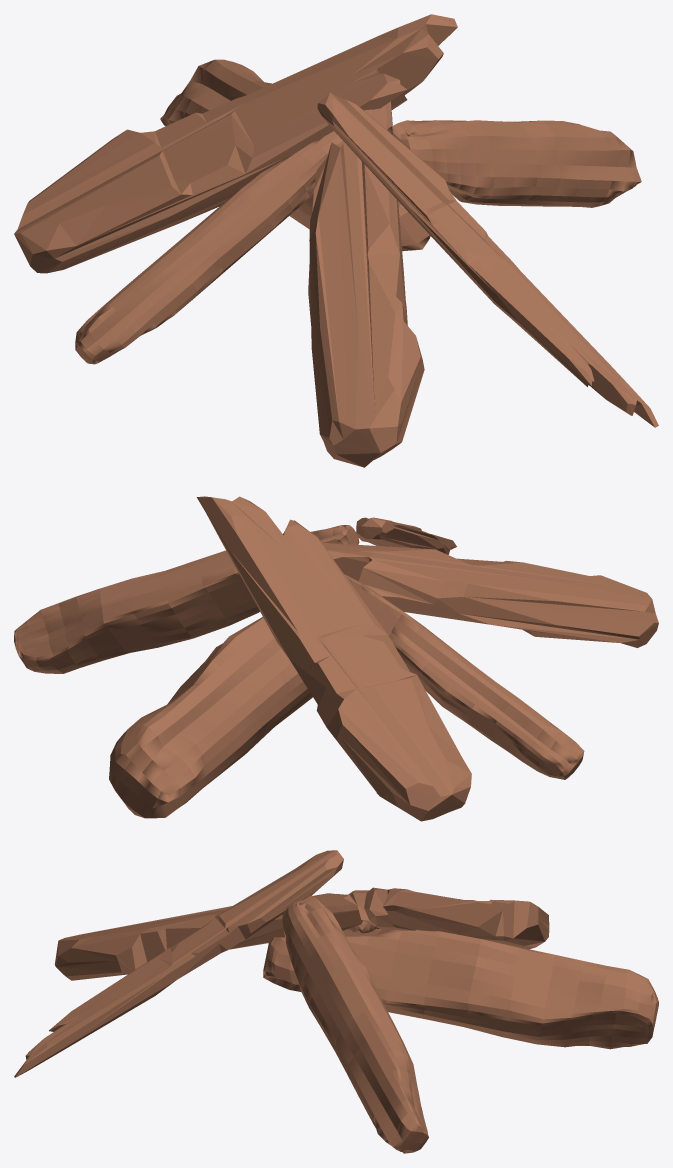
File: Firewood.fbx
3 views of the same model, one above another, from view 1: azimuth 30°, elevation 25°; view 2: azimuth 150°, elevation 25°; view 3: azimuth 270°, elevation 25° (orthographic). The views are drawn at different scales.
Visible parts, largest first — view 1: Cube2.002; view 2: Cube2.002; view 3: Cube2.002.
Boxes of the visible parts, x1,y1,x2,y2 form: Cube2.002: (14,14,658,467); Cube2.002: (14,496,658,821); Cube2.002: (14,850,658,1153).
Bounding box in the file's own units: 295 × 115 × 345.
